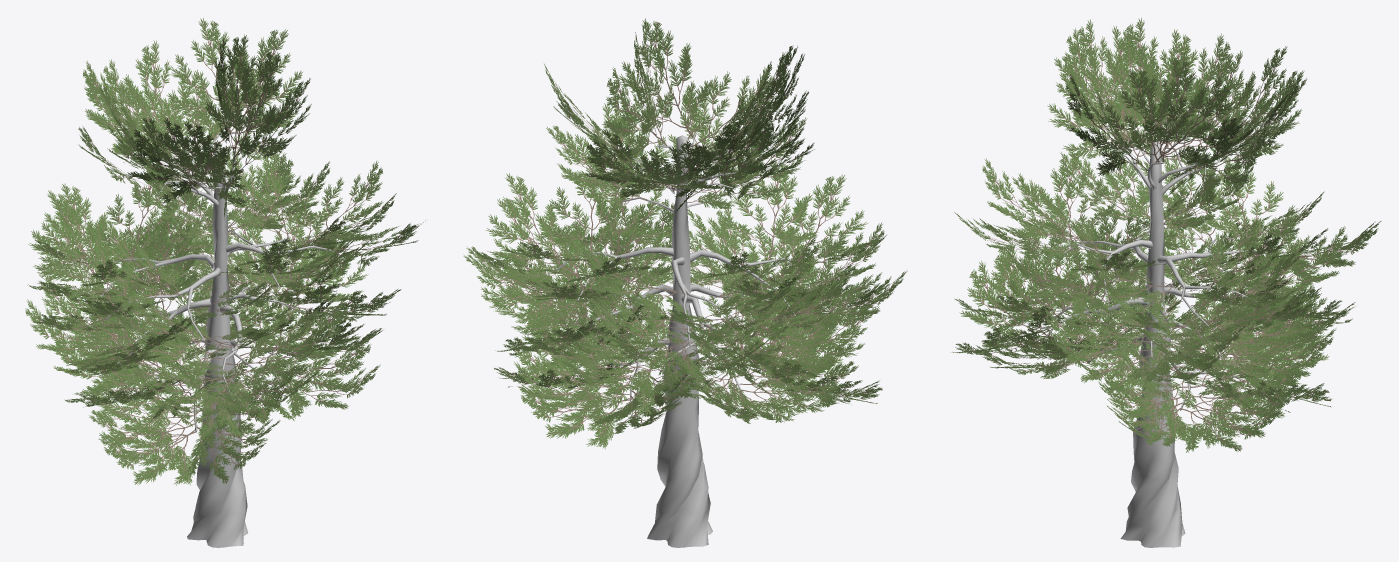
Rendered from Pine1.fbx.
3 views of the same model, side by side, from view 1: azimuth 30°, elevation 25°; view 2: azimuth 150°, elevation 25°; view 3: azimuth 270°, elevation 25° (orthographic). The views are drawn at different scales.
Visible parts, largest first — view 1: Tree_1; view 2: Tree_1; view 3: Tree_1.
Part boxes in pixels (x1,y1,x2,y2): Tree_1: (25, 18, 425, 547); Tree_1: (463, 18, 907, 547); Tree_1: (952, 18, 1381, 547).
Size of the model in its own units: 1297 by 1296 by 1604.
